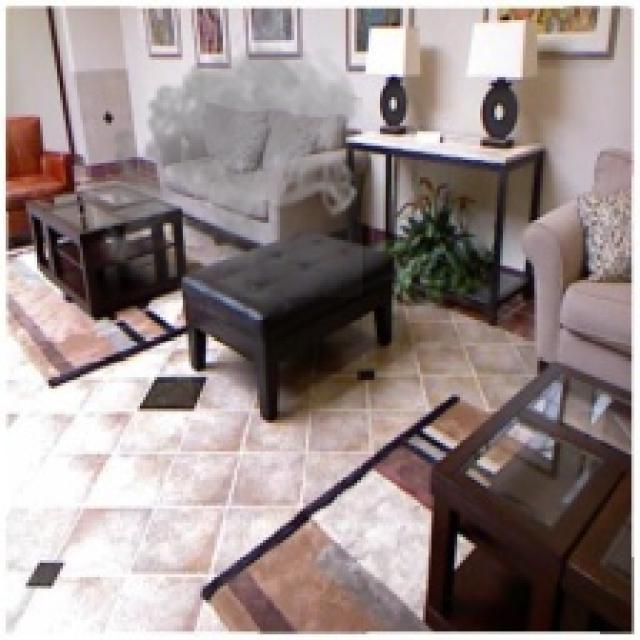Smoke: (94, 22, 366, 298)
